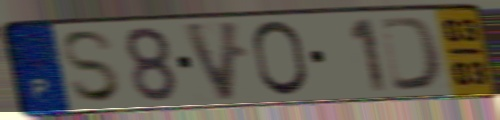1: (347, 16, 391, 95)
8: (121, 24, 181, 104)
D: (376, 14, 446, 93)
O: (249, 18, 312, 99)
S: (58, 28, 125, 106)
V: (178, 18, 245, 105)
